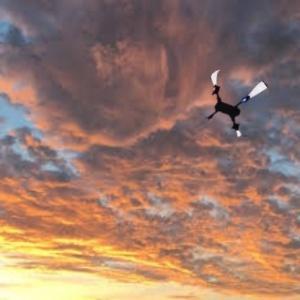drone: (198, 64, 274, 140)
